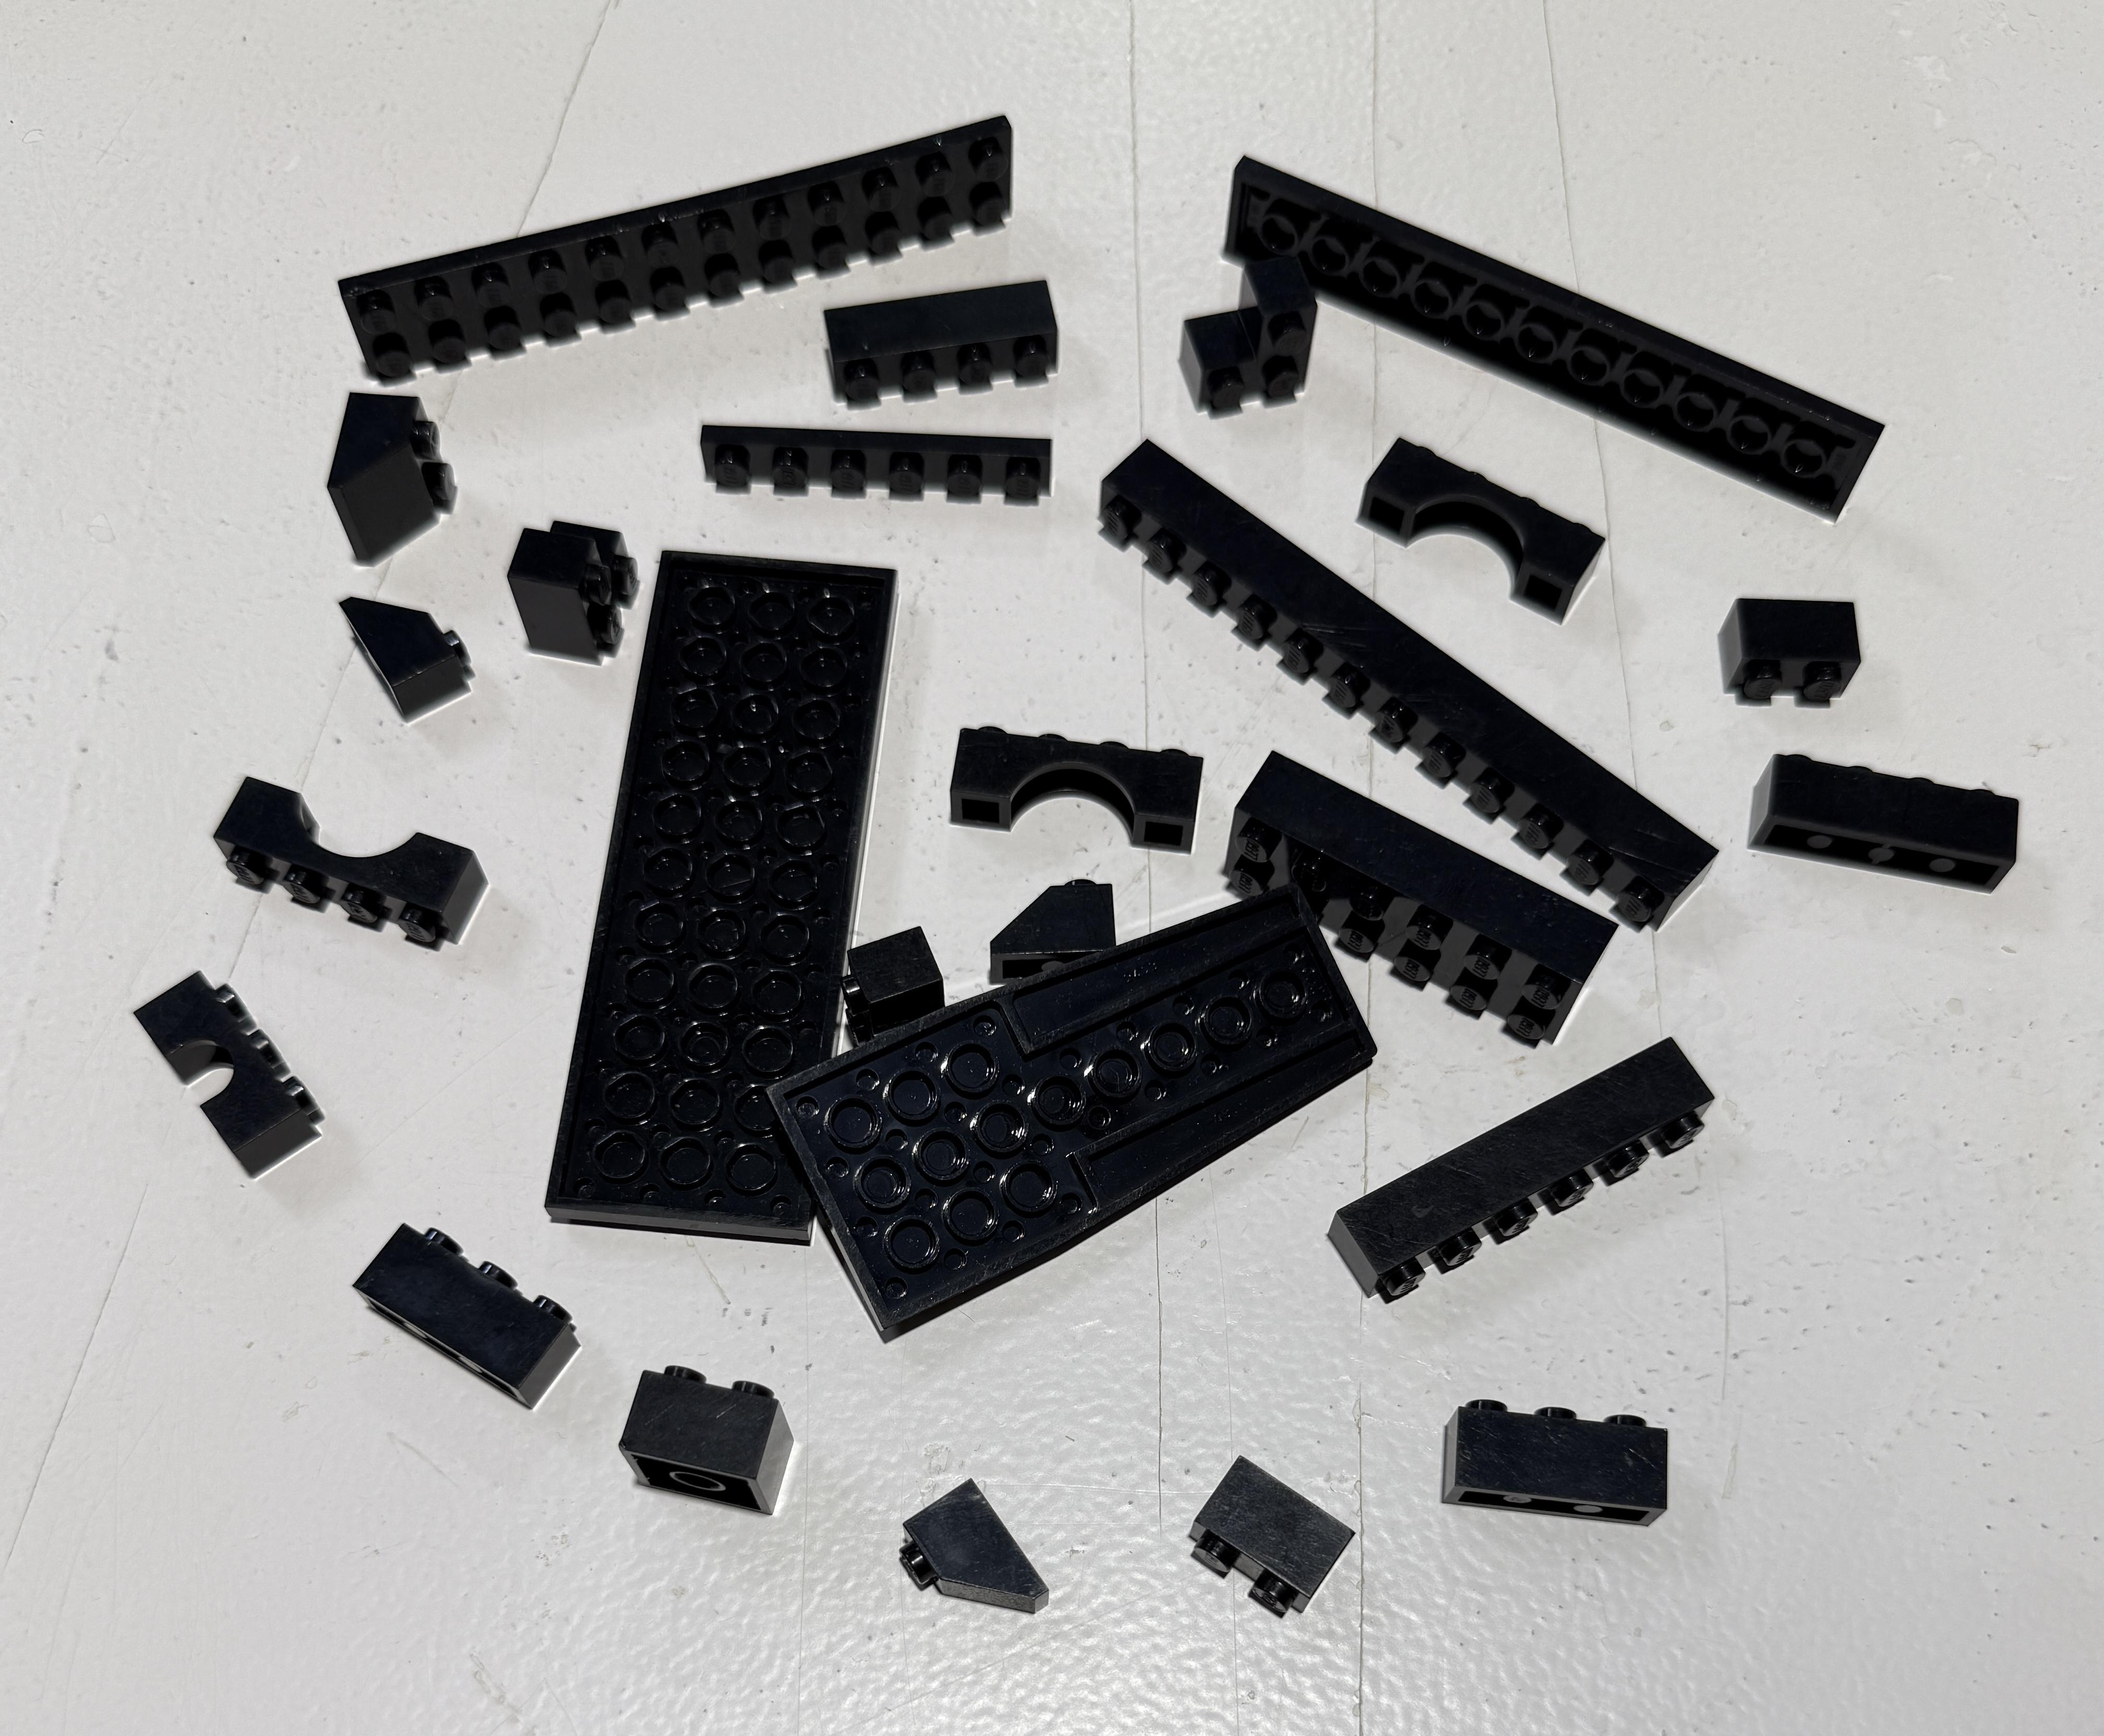brick_1x2: (603, 1330, 832, 1537), (1176, 1435, 1379, 1631), (1702, 570, 1908, 727)
brick_1x3: (1396, 1362, 1748, 1587), (336, 1220, 606, 1421)
brick_1x4: (818, 226, 1094, 455)
